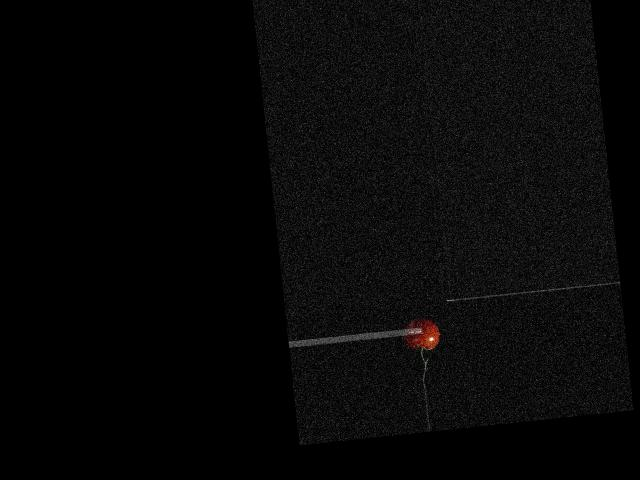tomato: (402, 318, 440, 351)
